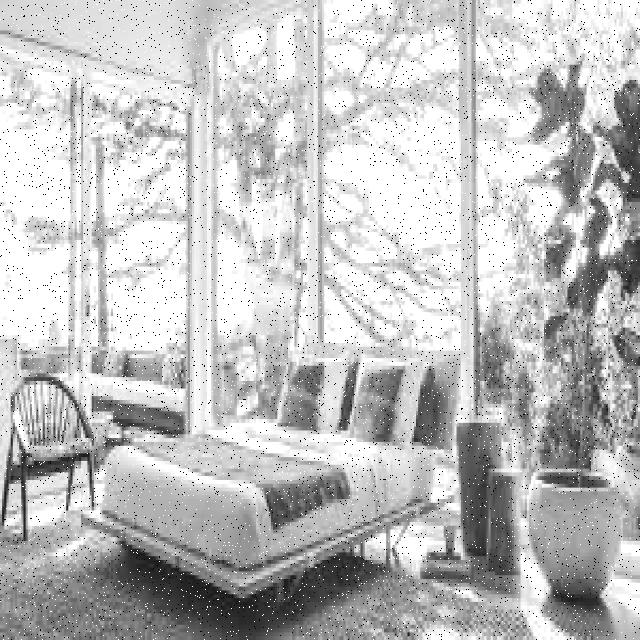bed: (111, 346, 434, 514)
